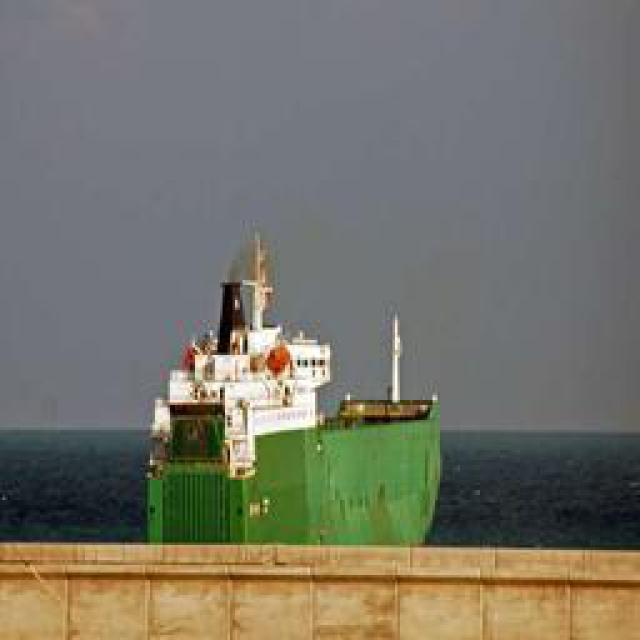Ship: (140, 235, 445, 545)
